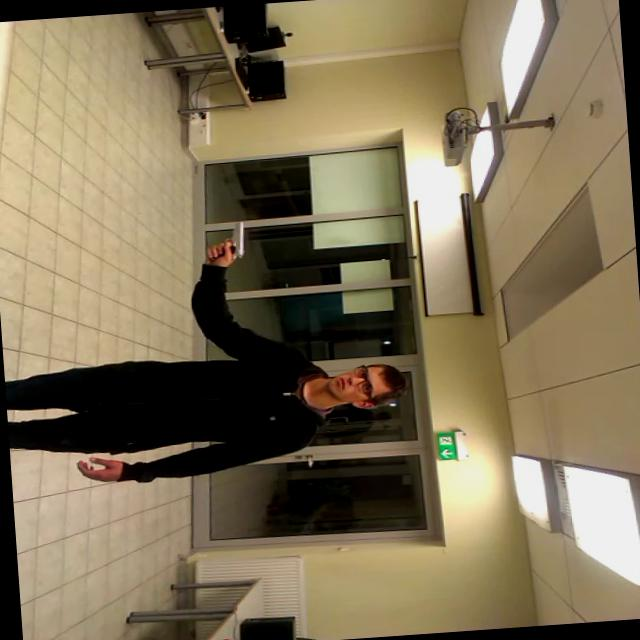handgun: (185, 214, 255, 274)
